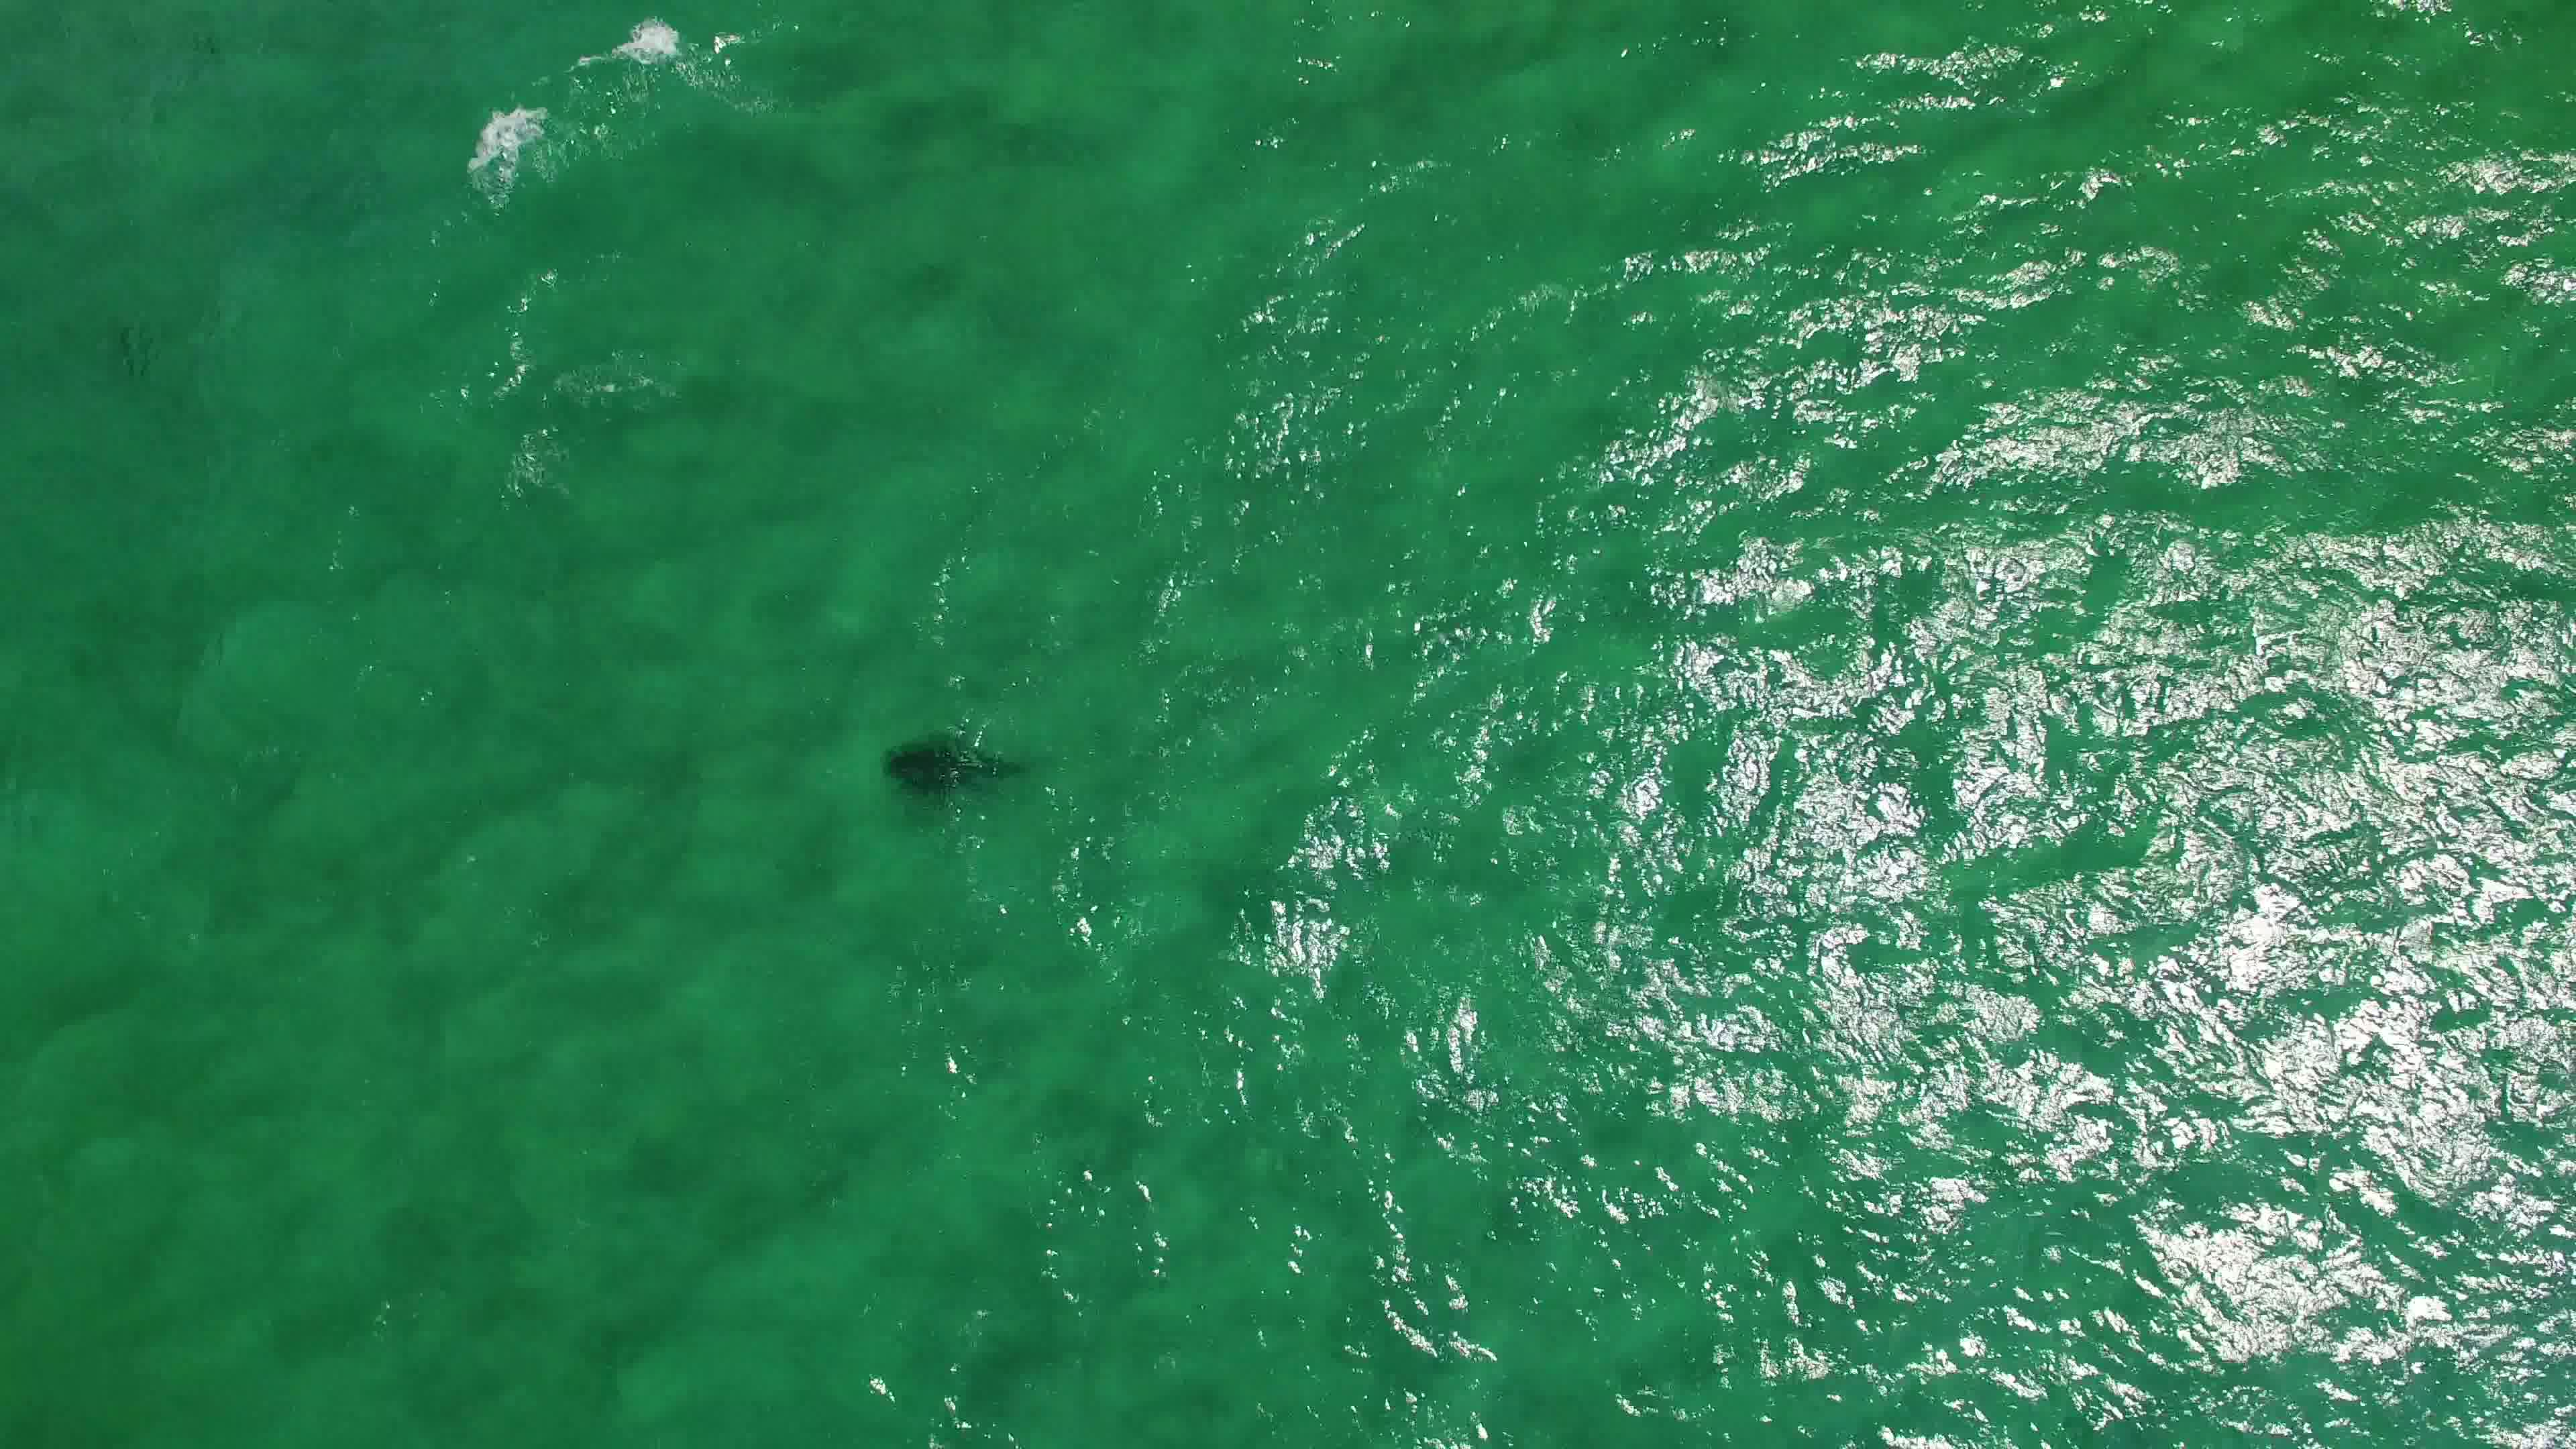shark: (872, 722, 1040, 810)
